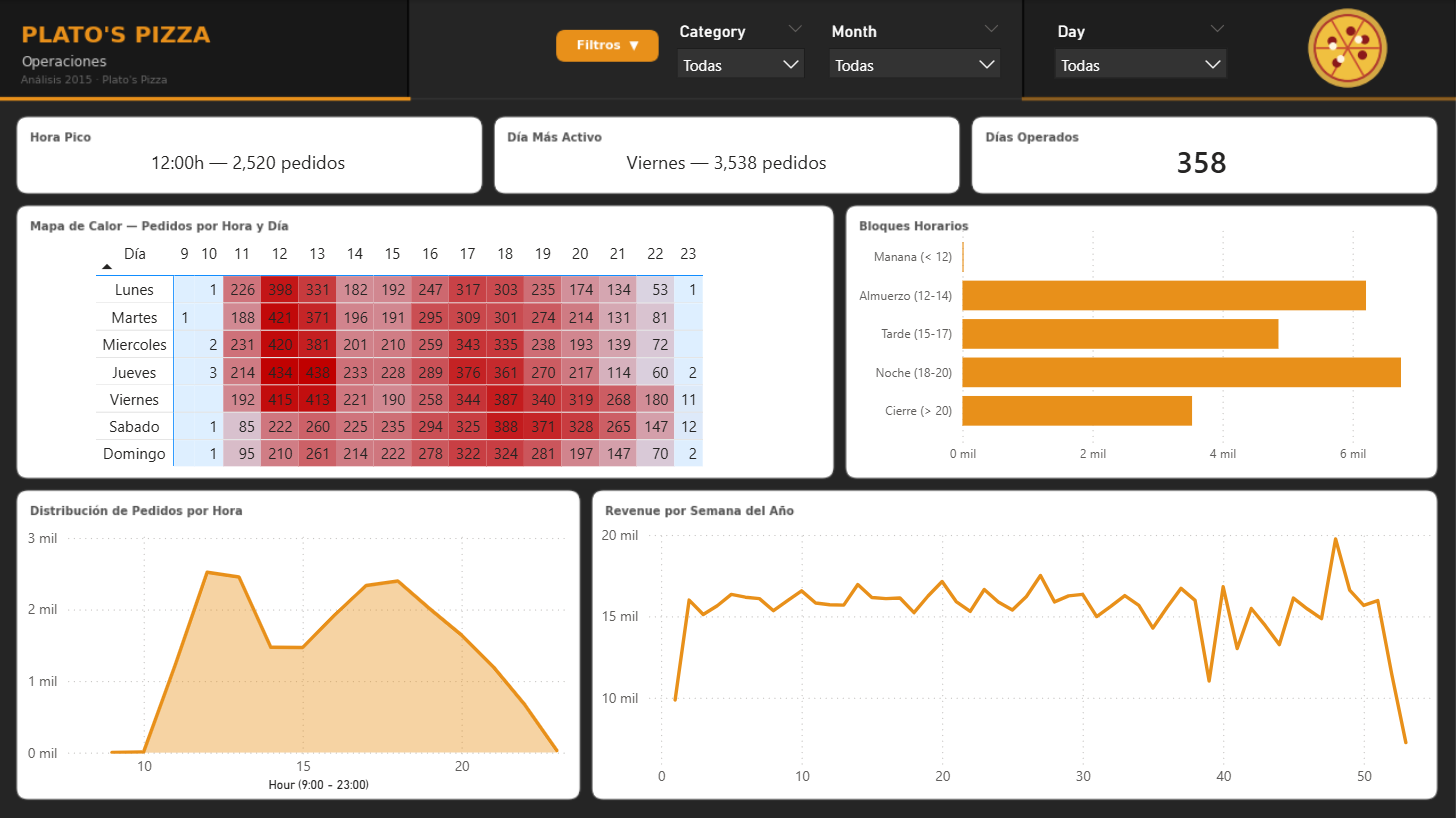

The page's visual inventory and layout, read from the dashboard file:
{"tool":"powerbi","page":{"name":"Operaciones","canvas":[1280,720],"ordinal":1},"visuals":[{"type":"textbox","box":[23.7,126.4,396,33.4],"z":0},{"type":"textbox","box":[441.7,126.4,396,33.4],"z":1000},{"type":"cardVisual","fields":{"Data":["pizza_features.Días Operados"]},"box":[858.7,104.5,396,69.4],"z":2000},{"type":"pivotTable","fields":{"Rows":["pizza_features.day_name_es"],"Columns":["pizza_features.hour"],"Values":["Count(pizza_features.order_id)"]},"box":[80.8,205.5,546.1,213.4],"z":3000},{"type":"barChart","fields":{"Category":["pizza_features.time_block"],"Y":["Count(pizza_features.order_id)"]},"box":[742.8,186.1,520.7,230],"z":4000},{"type":"areaChart","fields":{"Category":["agg_hourly.hour"],"Y":["Sum(agg_hourly.orders)"]},"box":[21.1,458.3,484.7,241.5],"z":5000},{"type":"lineChart","fields":{"Category":["agg_weekly.week"],"Y":["Sum(agg_weekly.revenue)"]},"box":[524.2,455.7,739.3,244.1],"z":6000},{"type":"slicer","fields":{"Values":["pizza_features.month_name"]},"box":[719.1,14,172.1,61.5],"z":6001},{"type":"slicer","fields":{"Values":["pizza_features.category"]},"box":[585.7,14,133.5,61.5],"z":6002},{"type":"slicer","fields":{"Values":["pizza_features.day_name"]},"box":[917.6,14,172.1,61.5],"z":6003}]}

Visuals, with their boxes in screenshot pixels (x1, y1, x2, y2), scaled from the page's 1280x720 canvas onto the 1456x820 screenshot:
textbox: [x1=27, y1=144, x2=477, y2=182]
textbox: [x1=502, y1=144, x2=953, y2=182]
cardVisual - pizza_features.Días Operados: [x1=977, y1=119, x2=1427, y2=198]
pivotTable - pizza_features.day_name_es x pizza_features.hour: [x1=92, y1=234, x2=713, y2=477]
barChart - pizza_features.time_block x Count(pizza_features.order_id): [x1=845, y1=212, x2=1437, y2=474]
areaChart - agg_hourly.hour x Sum(agg_hourly.orders): [x1=24, y1=522, x2=575, y2=797]
lineChart - agg_weekly.week x Sum(agg_weekly.revenue): [x1=596, y1=519, x2=1437, y2=797]
slicer - pizza_features.month_name: [x1=818, y1=16, x2=1014, y2=86]
slicer - pizza_features.category: [x1=666, y1=16, x2=818, y2=86]
slicer - pizza_features.day_name: [x1=1044, y1=16, x2=1240, y2=86]
